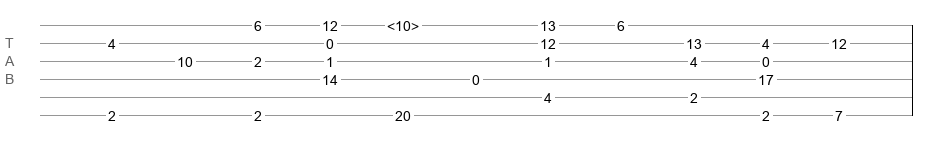0: (326, 36, 334, 46), (472, 72, 480, 82), (762, 54, 770, 64)
1: (326, 54, 334, 64), (544, 54, 552, 64)
10: (177, 54, 193, 64)
12: (322, 18, 338, 28), (540, 36, 556, 46), (831, 36, 847, 46)
13: (540, 18, 556, 28), (686, 36, 702, 46)
14: (322, 72, 338, 82)
17: (758, 72, 774, 82)
2: (108, 108, 116, 118), (254, 108, 262, 118), (254, 54, 262, 64), (690, 90, 698, 100), (762, 108, 770, 118)
20: (395, 108, 411, 118)
4: (108, 36, 116, 46), (544, 90, 552, 100), (690, 54, 698, 64), (762, 36, 770, 46)
6: (254, 18, 262, 28), (617, 18, 625, 28)
7: (835, 108, 843, 118)
harmonic: (387, 18, 419, 28)
